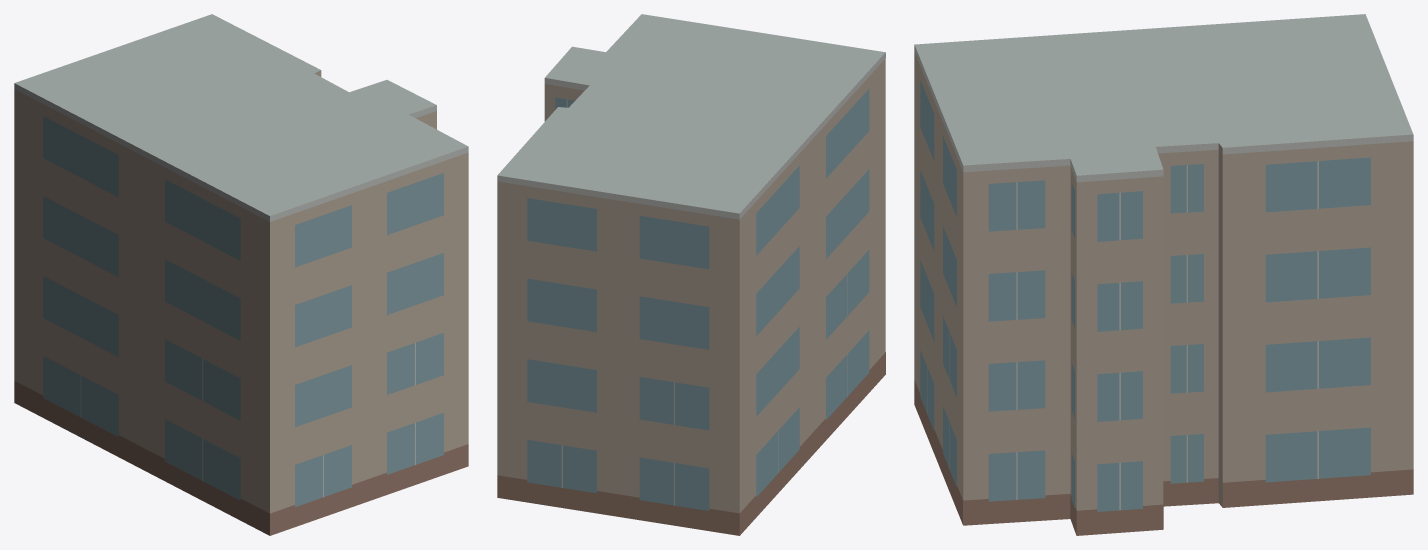
File: survey-upis-32685155.glb
3 views of the same model, side by side, from view 1: azimuth 30°, elevation 25°; view 2: azimuth 150°, elevation 25°; view 3: azimuth 270°, elevation 25° (orthographic). The views are drawn at different scales.
Visible parts, largest first — view 1: survey-upis-32685155.tmp; view 2: survey-upis-32685155.tmp; view 3: survey-upis-32685155.tmp.
Boxes of the visible parts, x1,y1,x2,y2 form: survey-upis-32685155.tmp: (14,14,468,535); survey-upis-32685155.tmp: (497,14,885,535); survey-upis-32685155.tmp: (914,14,1413,535).
Bounding box in the file's own units: 12.68 × 13.15 × 16.53.
